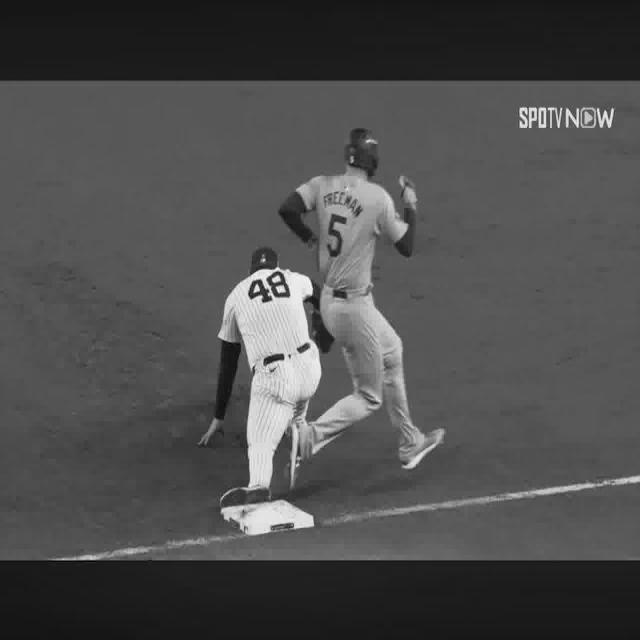base: (221, 500, 314, 535)
baseball_glove: (311, 310, 334, 352)
shoe: (401, 428, 445, 470), (286, 422, 311, 490), (221, 485, 270, 508)
